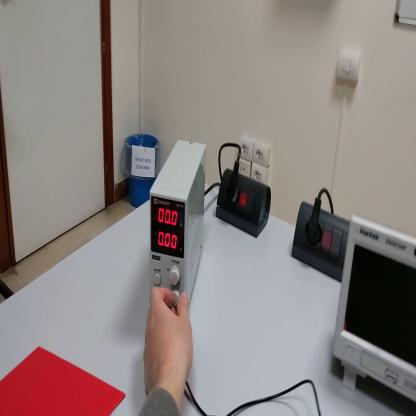hand: (144, 287, 193, 393)
oscilloscope: (334, 215, 416, 407)
power supply: (152, 141, 210, 308)
register: (1, 345, 128, 415)
socket: (291, 201, 352, 286), (216, 167, 273, 239)
